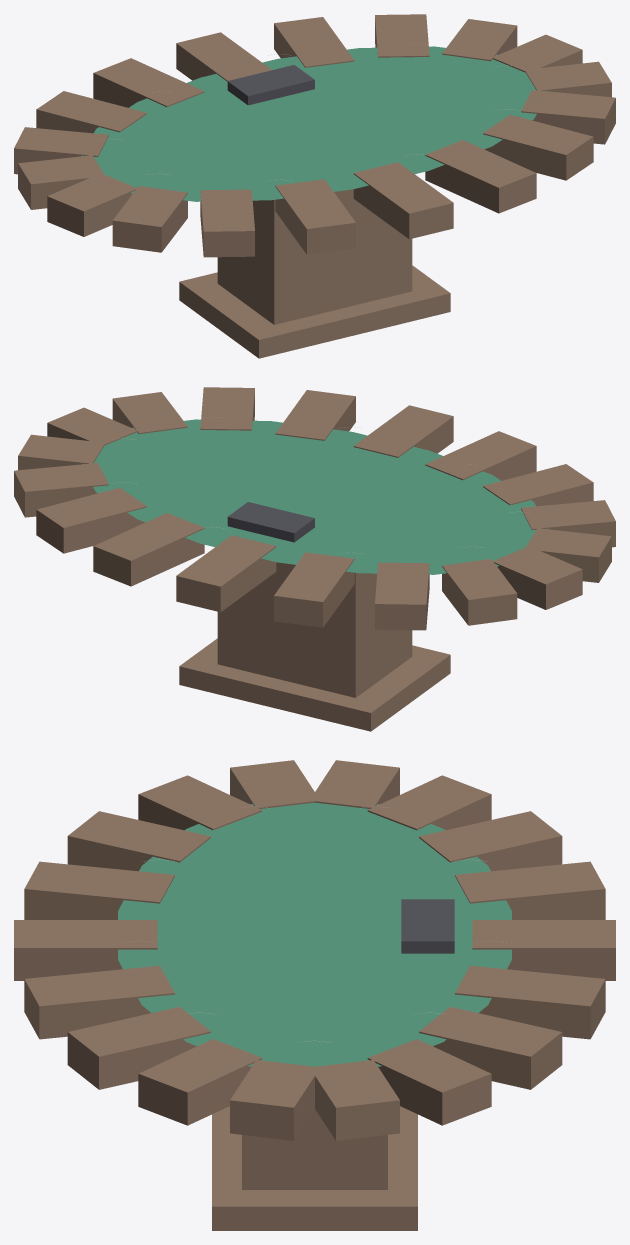
The model's file is pokerTable.glb.
The picture shows the model from 3 angles, top to bottom: view 1: azimuth 30°, elevation 25°; view 2: azimuth 150°, elevation 25°; view 3: azimuth 270°, elevation 25°; orthographic projection. The views are drawn at different scales.
Parts seen in each view (by area): view 1: poker-table; view 2: poker-table; view 3: poker-table.
Boxes of the visible parts, x1,y1,x2,y2 form: poker-table: (14, 14, 615, 358); poker-table: (14, 387, 615, 731); poker-table: (14, 760, 615, 1230).
Bounding box in the file's own units: 2.47 × 0.83 × 1.81.
